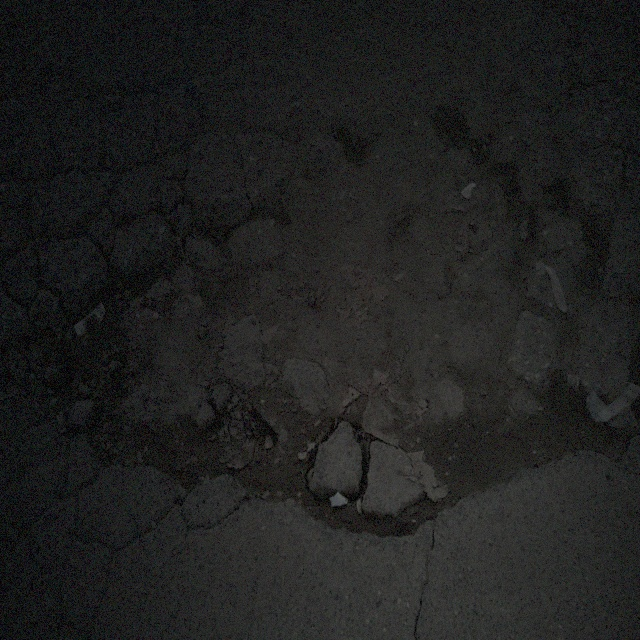pothole: (22, 105, 631, 542)
